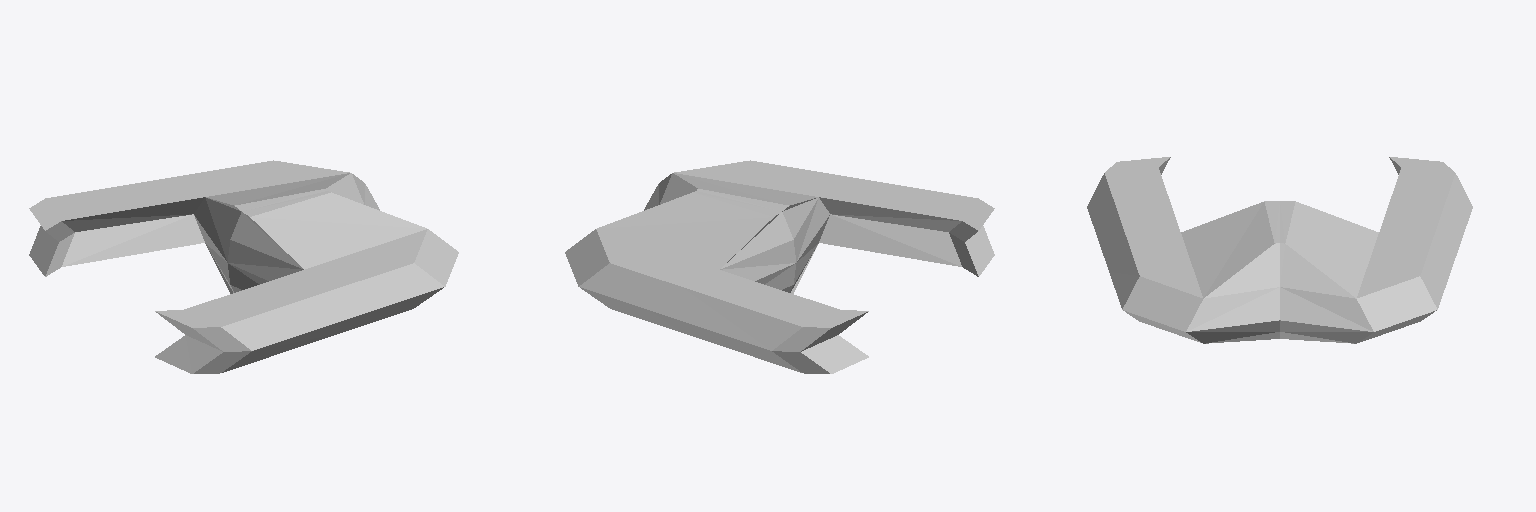
Rendered from delivery_drone.obj.
3 views of the same model, side by side, from view 1: azimuth 30°, elevation 25°; view 2: azimuth 150°, elevation 25°; view 3: azimuth 270°, elevation 25° (orthographic).
Visible parts, largest first — view 1: Cube; view 2: Cube; view 3: Cube.
Boxes of the visible parts, x1=… form: Cube: x1=29, y1=160, x2=458, y2=373; Cube: x1=565, y1=160, x2=994, y2=373; Cube: x1=1087, y1=157, x2=1472, y2=343.
Size of the model in its own units: 1.72 by 0.5047 by 1.84.